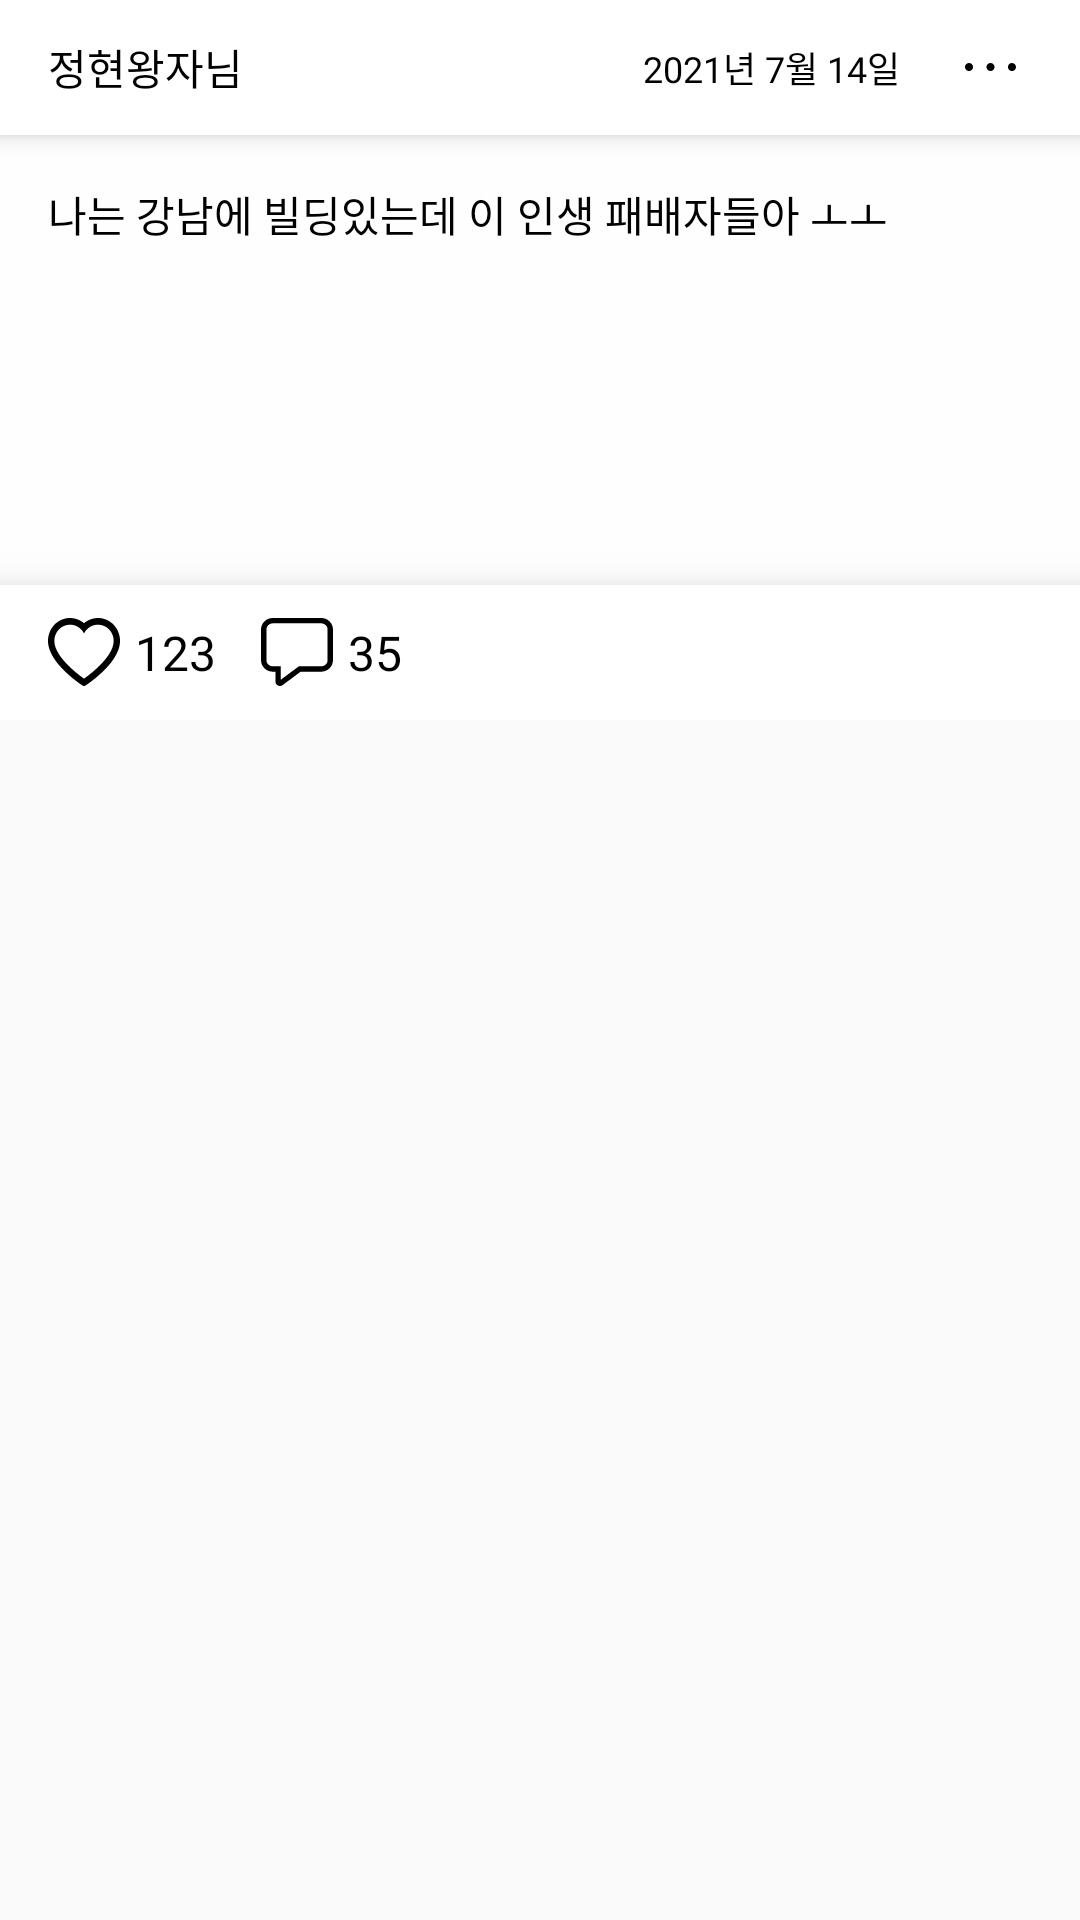

Where to tap for icons on this 1080×1920 app screen, as point (x, y):
comment: point (297, 652)
like empty: point (84, 652)
